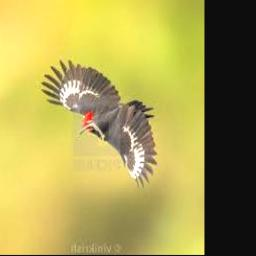Woodpecker: (41, 60, 158, 188)
